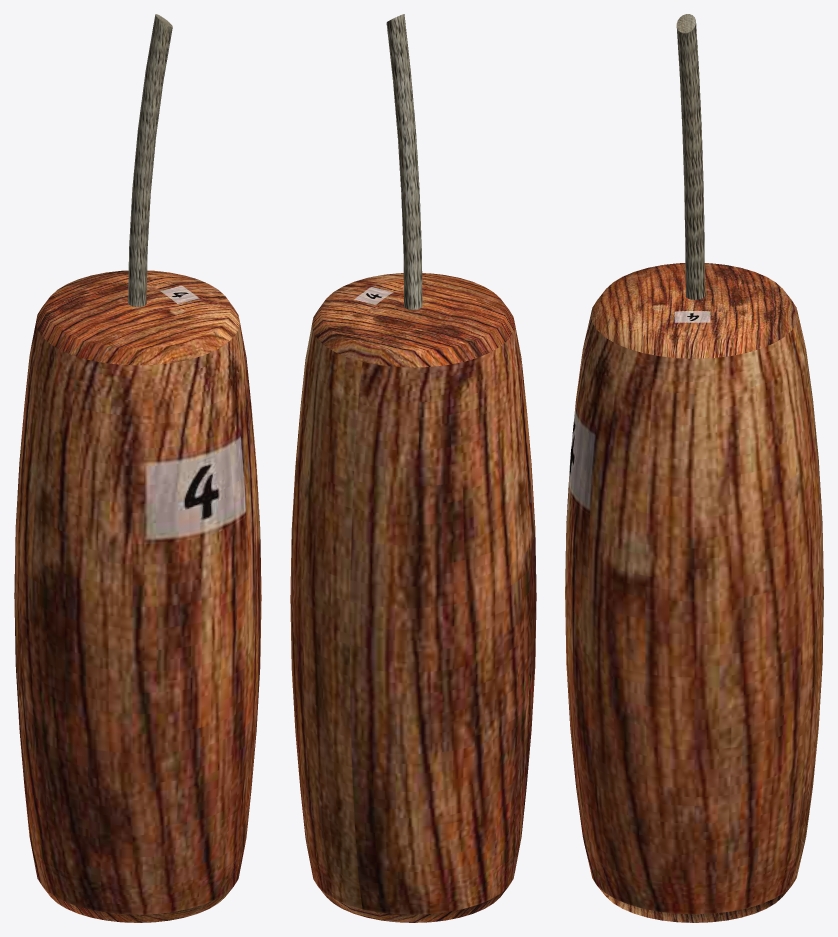
Rendered from punching bag wood4.FBX.
The picture shows the model from 3 angles, left to right: view 1: azimuth 30°, elevation 25°; view 2: azimuth 150°, elevation 25°; view 3: azimuth 270°, elevation 25°; orthographic projection.
Parts seen in each view (by area): view 1: Cylinder001, Cylinder002; view 2: Cylinder001, Cylinder002; view 3: Cylinder001, Cylinder002.
Boxes of the visible parts, <box> form: Cylinder001: <box>14,270,261,922</box>; Cylinder002: <box>128,14,172,306</box>; Cylinder001: <box>290,273,536,922</box>; Cylinder002: <box>386,14,422,309</box>; Cylinder001: <box>565,263,823,922</box>; Cylinder002: <box>676,14,704,299</box>.
Bounding box in the file's own units: 54.37 × 216 × 56.99.
